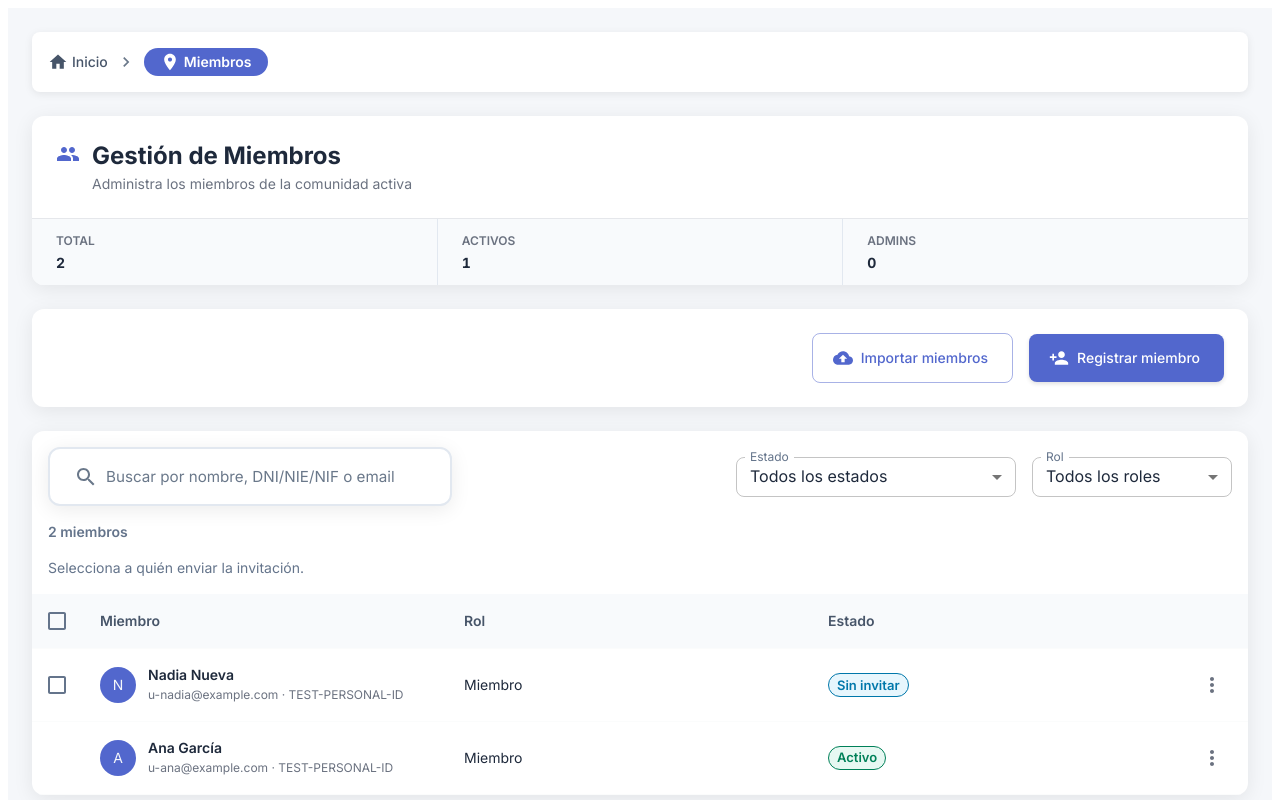
inviting from the roster › UI-MBR-012 invites a never-invited member, and the row shows the invitation sent
Expected: the text "Ana García" is shown, [148,739,222,756]
Expected: the text "Sin invitar" is shown, [837,676,900,692]
Click the button named "Más acciones para Nadia Nueva" at x=1212, y=685, box [1195,668,1229,702]
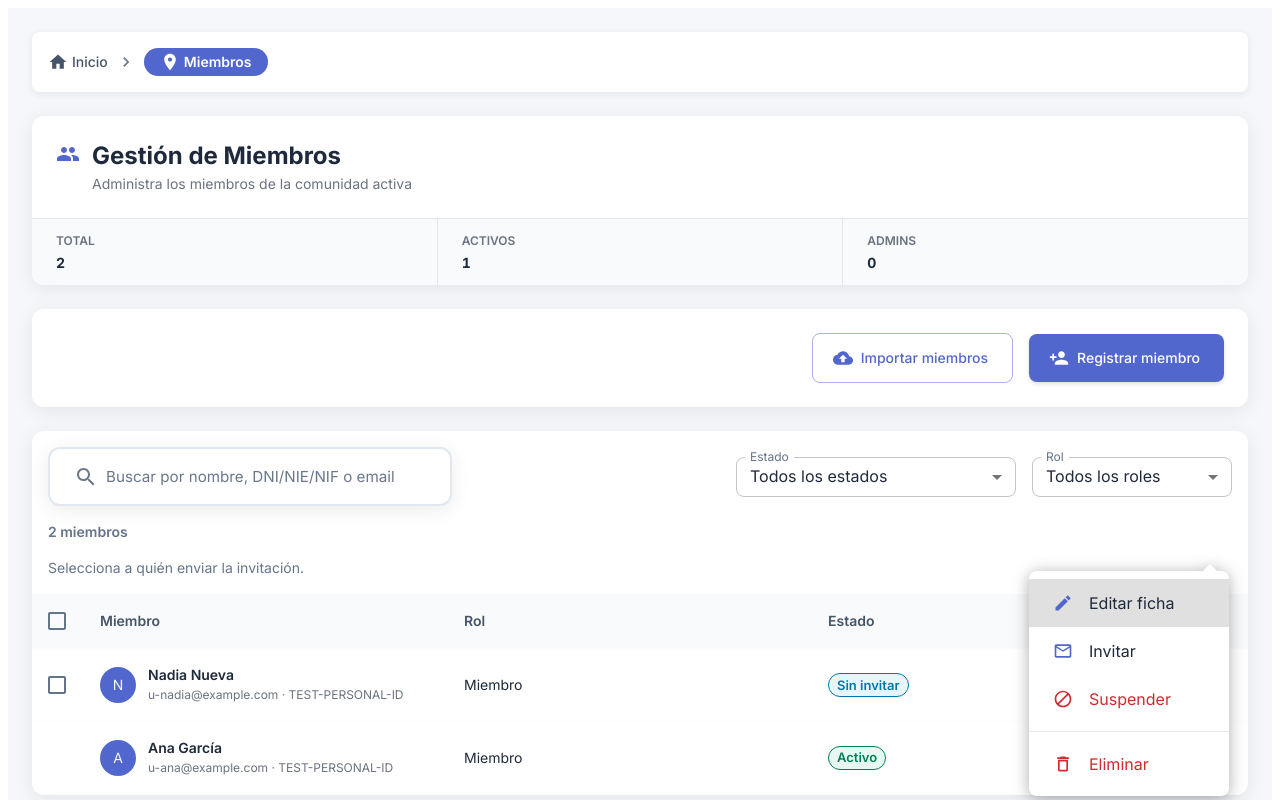
Click the menu item "Invitar" at x=1094, y=651, box [1053,641,1136,661]
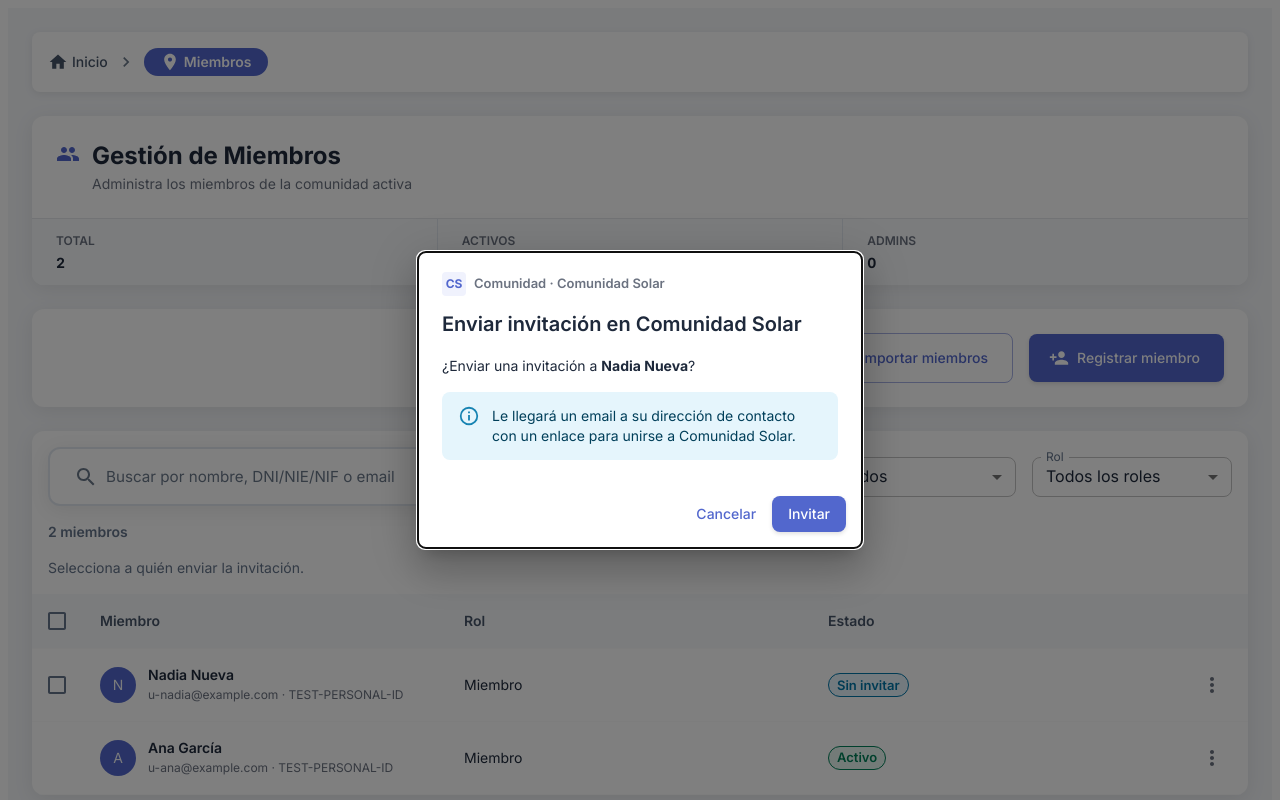
Click the button "Invitar" at x=809, y=514, box [772,496,846,532]
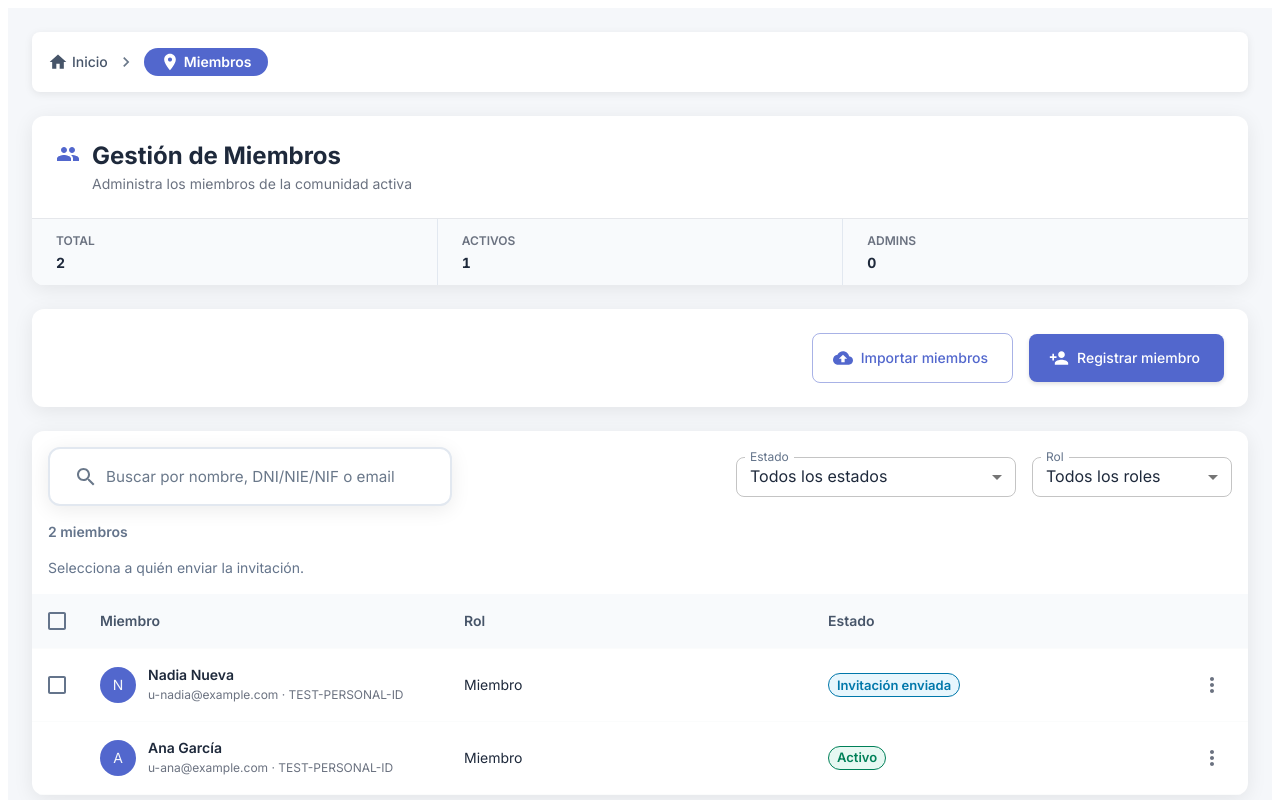
Result: the dialog is gone
Result: the text "Invitación enviada" is shown at [829,676,959,695]
